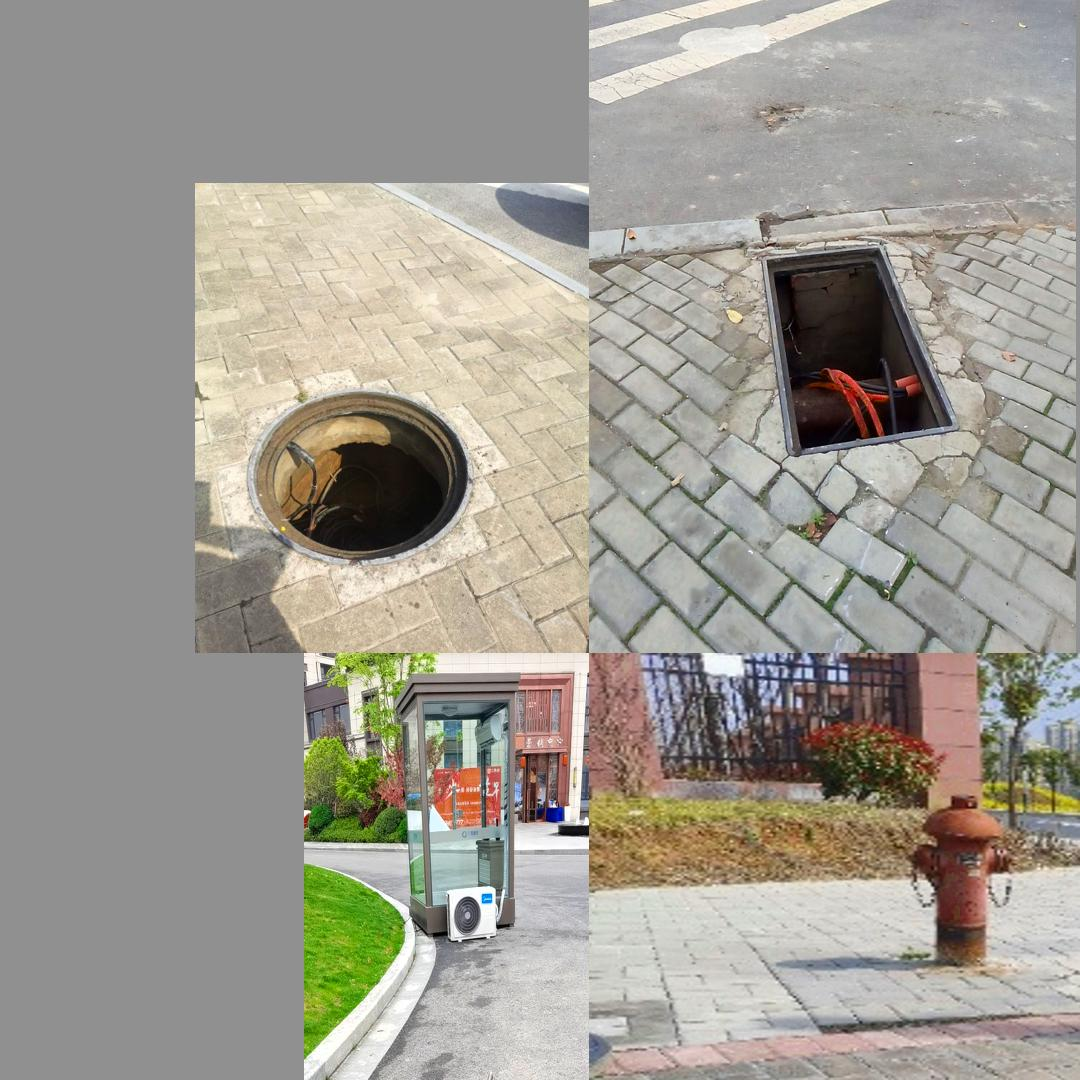lose: (759, 244, 962, 458), (244, 388, 472, 564)
